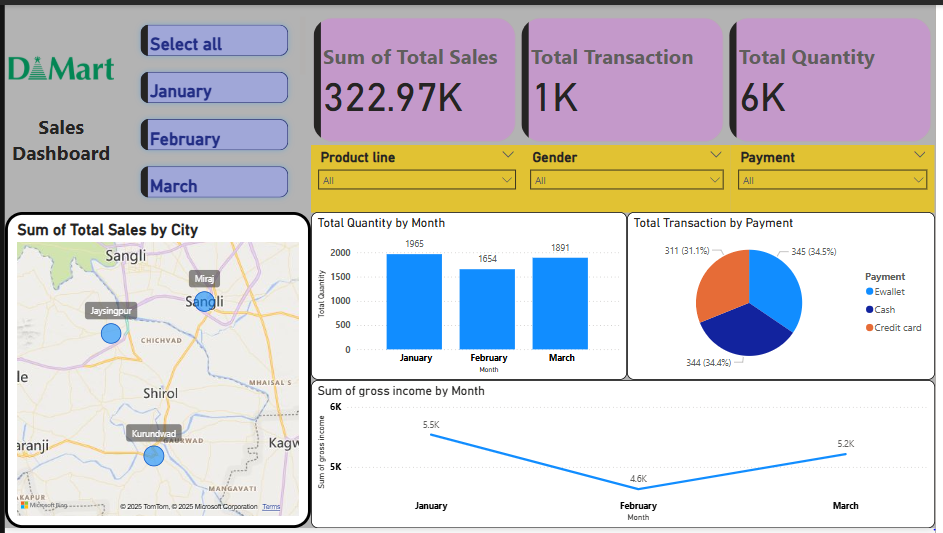

What the dashboard file says about the page in this screenshot:
{"tool":"powerbi","page":{"name":"Dashboard","canvas":[1280,720],"ordinal":0},"visuals":[{"type":"advancedSlicerVisual","fields":{"Values":["Custom_Calender.Date.Variation.Date Hierarchy.Month"]},"box":[170.6,11.6,248.7,273.3],"z":0},{"type":"cardVisual","fields":{"Data":["Sum(Sales data.Total Sales)","Sales data.Total Transaction","Sales data.Total Quantity"]},"box":[419.9,11.8,860.1,181.4],"z":1000},{"type":"slicer","fields":{"Values":["Sales data.Product line"]},"box":[420.7,192.3,292,92.5],"z":2000},{"type":"slicer","fields":{"Values":["Sales data.Gender"]},"box":[712.8,192.3,286.3,92.5],"z":3000},{"type":"slicer","fields":{"Values":["Sales data.Payment"]},"box":[999,192.3,280.5,92.5],"z":4000},{"type":"image","box":[0,28.9,154.7,114.2],"z":5000},{"type":"textbox","box":[0,143.1,154.7,95.4],"z":6000},{"type":"map","fields":{"Category":["Sales data.City"],"Size":["Sum(Sales data.Total Sales)"]},"box":[0,284.8,420.7,435.2],"z":7000},{"type":"columnChart","fields":{"Category":["Custom_Calender.Date.Variation.Date Hierarchy.Month"],"Y":["Sales data.Total Quantity"]},"box":[420.7,284.8,435.2,231.3],"z":8000},{"type":"lineChart","fields":{"Category":["Custom_Calender.Date.Variation.Date Hierarchy.Month"],"Y":["Sum(Sales data.gross income)"]},"box":[420.7,516.1,858.8,203.9],"z":9000},{"type":"pieChart","fields":{"Category":["Sales data.Payment"],"Y":["Sales data.Total Transaction"]},"box":[855.9,284.8,423.6,231.3],"z":9001}]}

Visuals, with their boxes in screenshot pixels (x1, y1, x2, y2), scaled from the page's 1280x720 canvas onto the 943x533 screenshot:
advancedSlicerVisual - Custom_Calender.Date.Variation.Date Hierarchy.Month: box=[126, 9, 309, 211]
cardVisual - Sum(Sales data.Total Sales) x Sales data.Total Transaction: box=[309, 9, 942, 143]
slicer - Sales data.Product line: box=[310, 142, 525, 211]
slicer - Sales data.Gender: box=[525, 142, 736, 211]
slicer - Sales data.Payment: box=[736, 142, 942, 211]
image: box=[0, 21, 114, 106]
textbox: box=[0, 106, 114, 177]
map - Sales data.City x Sum(Sales data.Total Sales): box=[0, 211, 310, 532]
columnChart - Custom_Calender.Date.Variation.Date Hierarchy.Month x Sales data.Total Quantity: box=[310, 211, 631, 382]
lineChart - Custom_Calender.Date.Variation.Date Hierarchy.Month x Sum(Sales data.gross income): box=[310, 382, 942, 532]
pieChart - Sales data.Payment x Sales data.Total Transaction: box=[631, 211, 942, 382]
